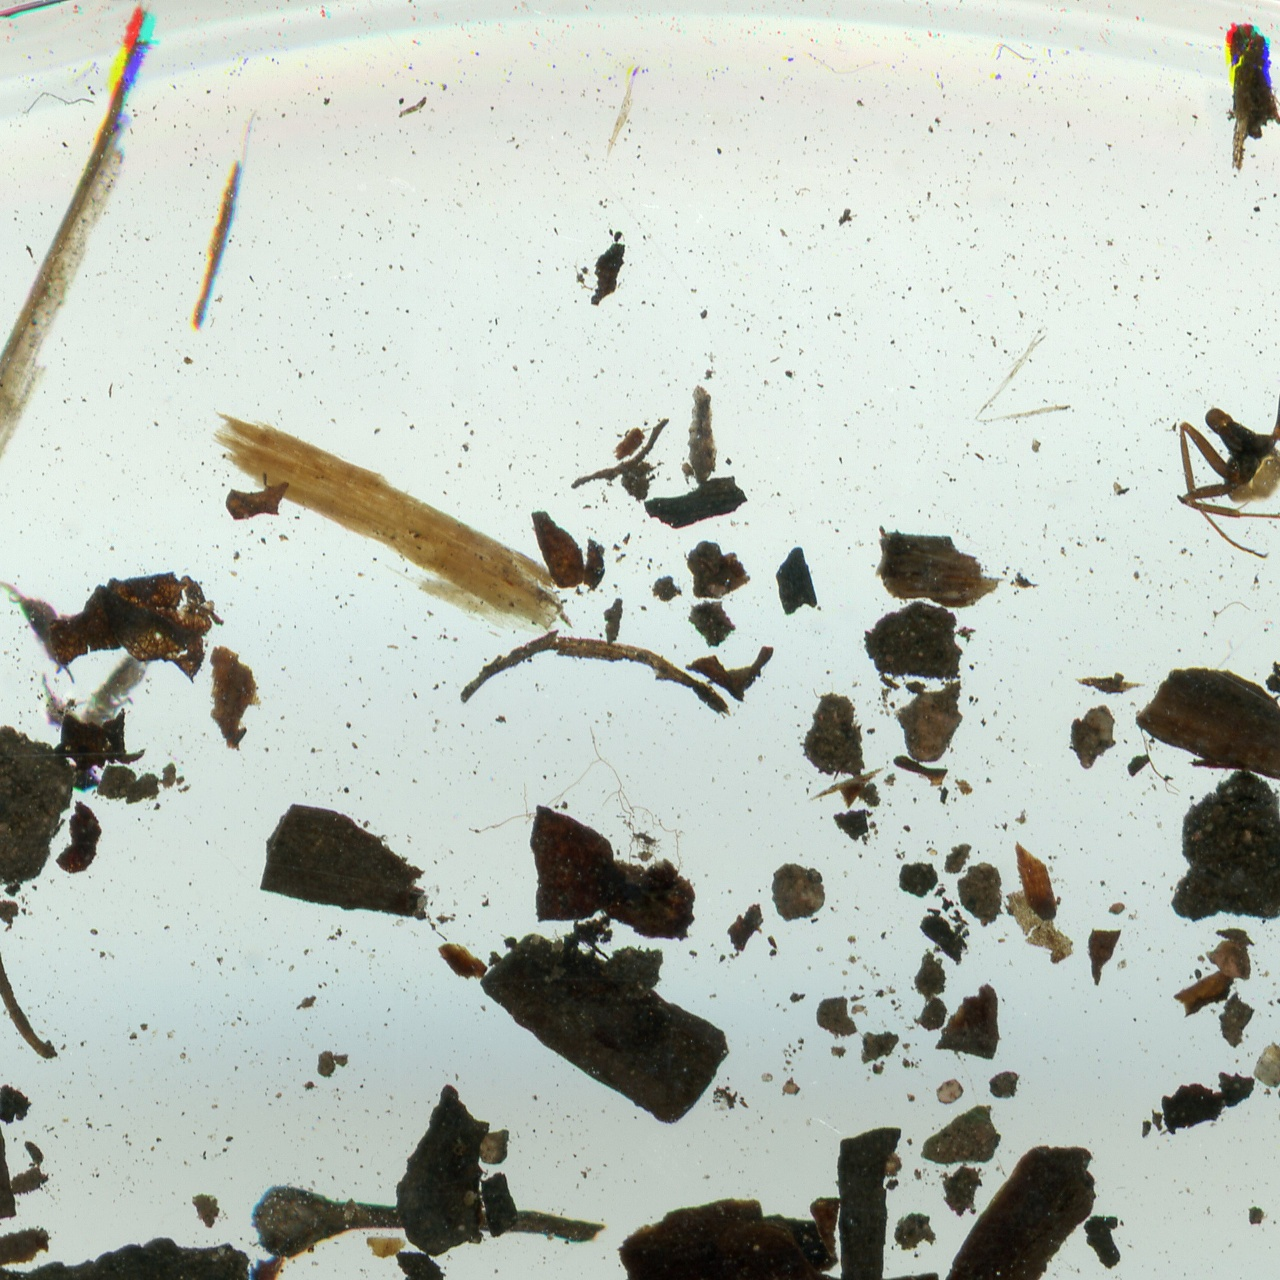arthropod: (1172, 366, 1280, 563), (0, 557, 86, 702), (73, 644, 170, 737), (18, 666, 84, 735)
